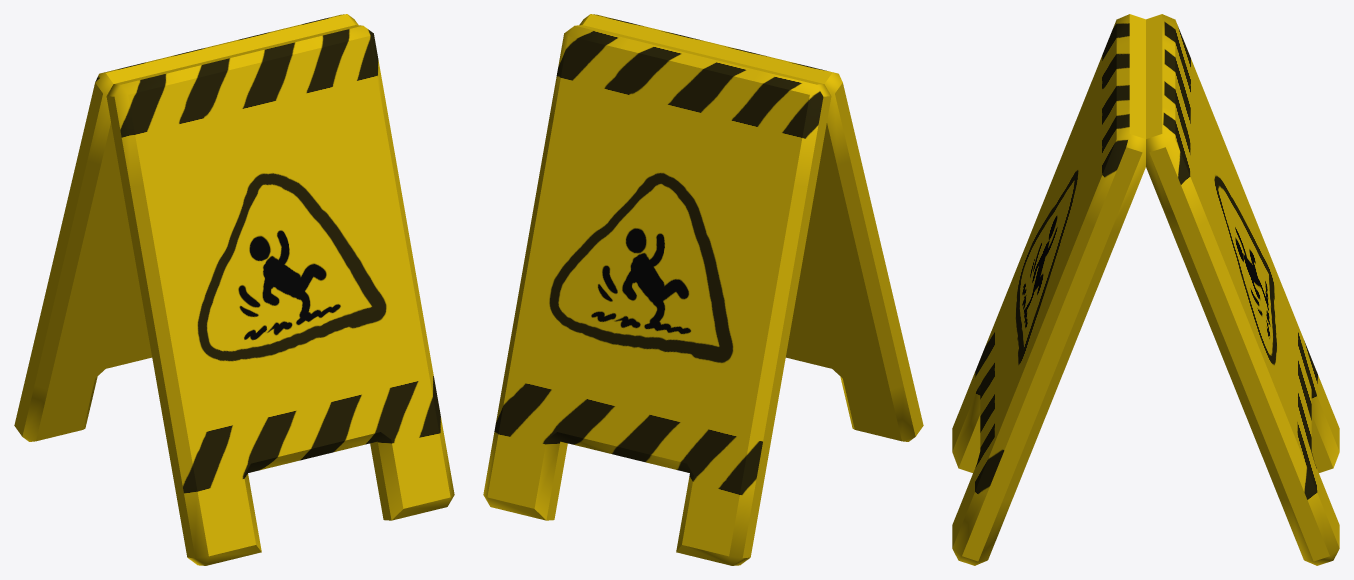
Rendered from Rutschig.fbx.
The picture shows the model from 3 angles, left to right: view 1: azimuth 30°, elevation 25°; view 2: azimuth 150°, elevation 25°; view 3: azimuth 270°, elevation 25°; orthographic projection.
Parts seen in each view (by area): view 1: Rutschig; view 2: Rutschig; view 3: Rutschig.
Boxes of the visible parts, left/top/right/bottom form: Rutschig: left=14, top=14, right=454, bottom=565; Rutschig: left=483, top=14, right=923, bottom=565; Rutschig: left=952, top=14, right=1339, bottom=565.
Bounding box in the file's own units: 200 × 313 × 254.
1 material, 1 textured.
